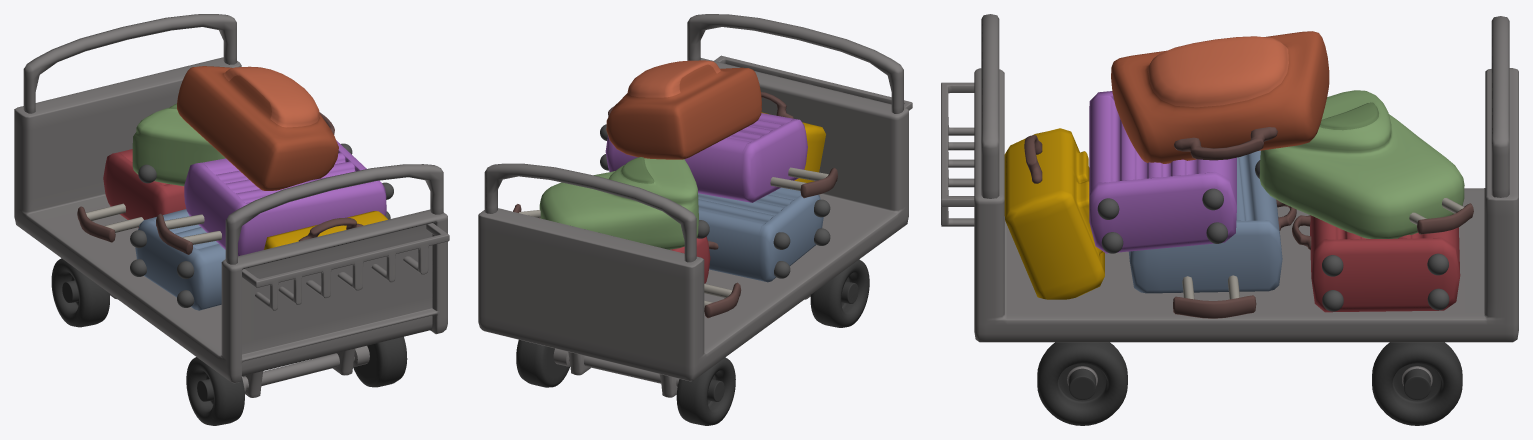
The model's file is cart#1.fbx.
3 views of the same model, side by side, from view 1: azimuth 30°, elevation 25°; view 2: azimuth 150°, elevation 25°; view 3: azimuth 270°, elevation 25° (orthographic). The views are drawn at different scales.
Visible parts, largest first — view 1: pCube40, polySurface52, polySurface32, polySurface48, polySurface38, pCube39, polySurface49; view 2: pCube40, polySurface52, polySurface48, polySurface32, pCube39, polySurface38, polySurface49; view 3: pCube40, polySurface52, pCube39, polySurface32, polySurface49, polySurface38, polySurface48.
Part boxes in pixels (x1,y1,x2,y2): pCube40: (14, 14, 449, 425); polySurface52: (177, 66, 338, 190); polySurface32: (156, 140, 393, 256); polySurface48: (130, 209, 225, 310); polySurface38: (77, 149, 186, 242); pCube39: (132, 103, 225, 186); polySurface49: (264, 211, 387, 249); pCube40: (478, 14, 912, 425); polySurface52: (606, 60, 761, 159); polySurface48: (698, 187, 830, 282); polySurface32: (600, 113, 837, 202); pCube39: (513, 157, 709, 249); polySurface38: (539, 218, 741, 318); polySurface49: (761, 92, 825, 182); pCube40: (941, 14, 1518, 425); polySurface52: (1111, 31, 1329, 163); pCube39: (1255, 90, 1473, 238); polySurface32: (1089, 91, 1236, 253); polySurface49: (1004, 128, 1104, 299); polySurface38: (1292, 215, 1460, 312); polySurface48: (1129, 150, 1296, 318).
Size of the model in its own units: 7.08 by 8.27 by 12.59.
